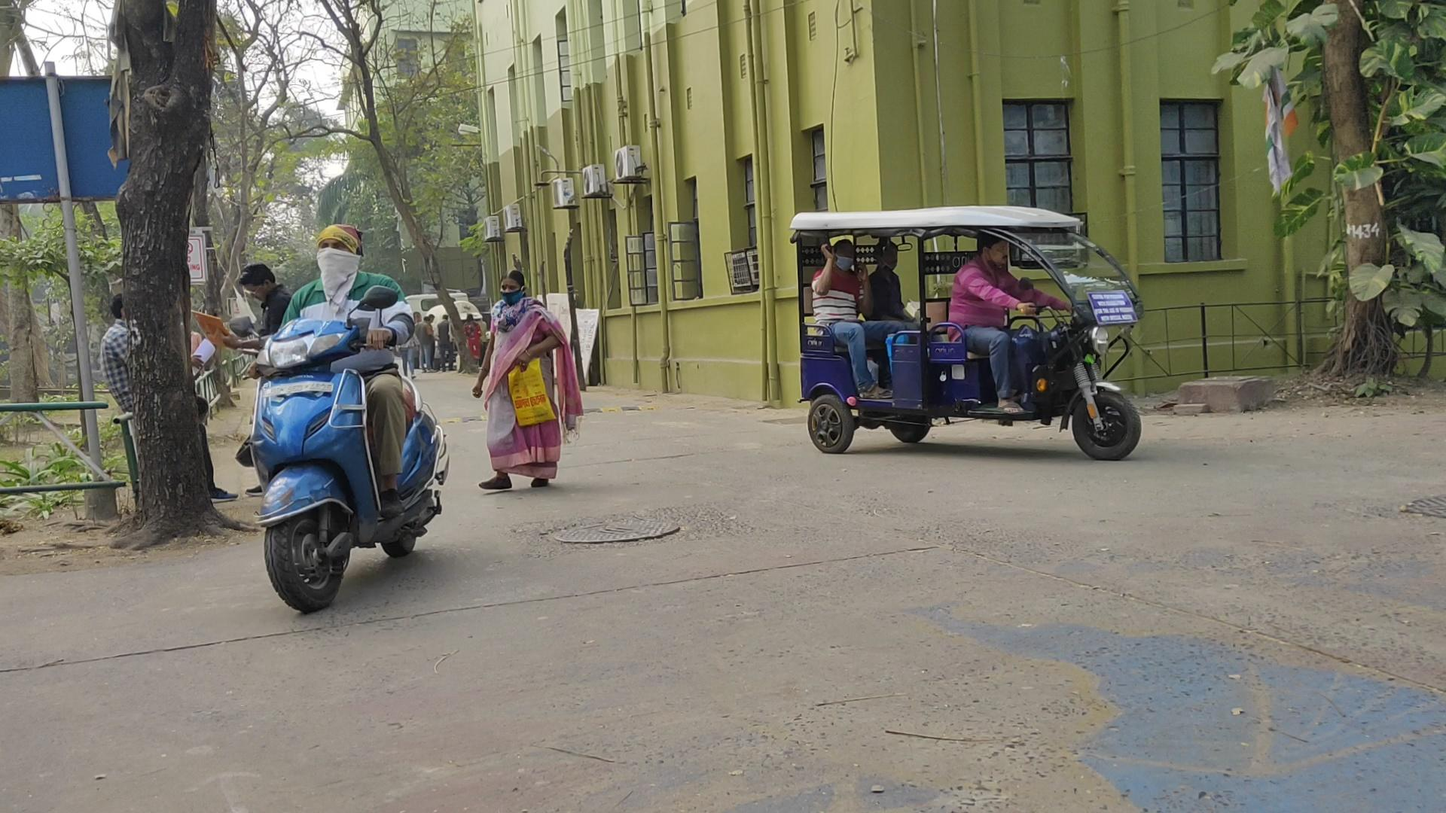Auto: (790, 204, 1145, 462)
bike: (236, 222, 450, 615)
